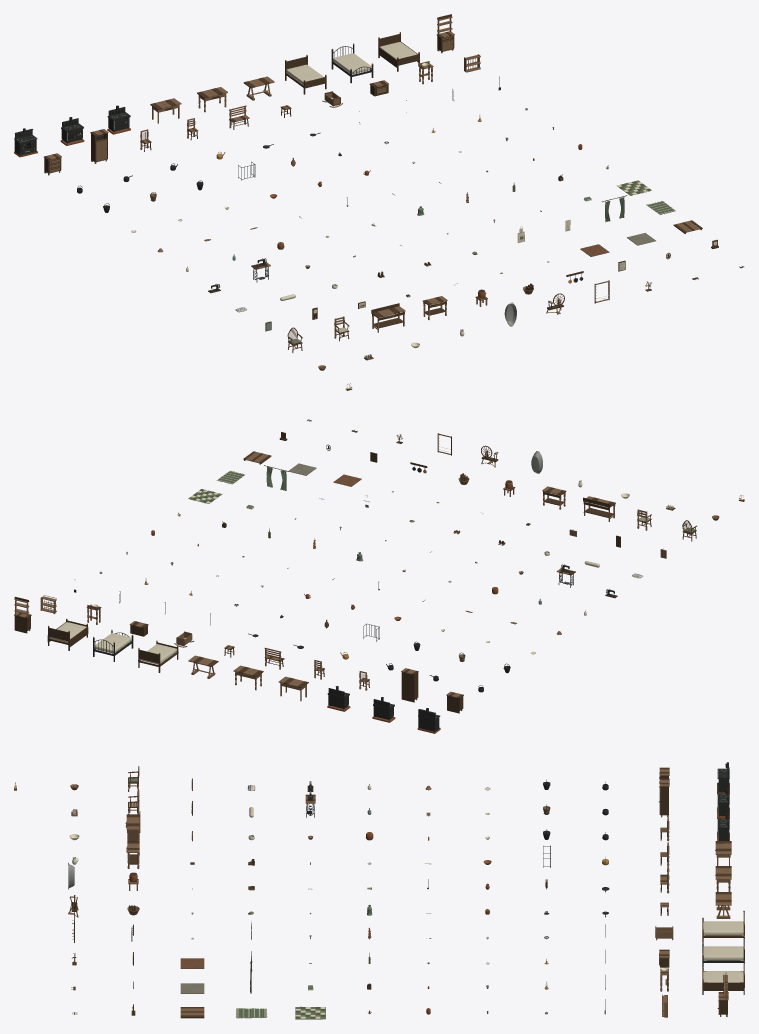
File: catalogue.glb
3 views of the same model, one above another, from view 1: azimuth 30°, elevation 25°; view 2: azimuth 150°, elevation 25°; view 3: azimuth 270°, elevation 25° (orthographic). The views are drawn at different scales.
Parts seen in each view (by area): view 1: box-bed, rope-bed, iron-bed, prep-table; view 2: box-bed, rope-bed, iron-bed, food-cupboard; view 3: box-bed, rope-bed, iron-bed.
Boxes of the visible parts, <box> form: box-bed: <box>378,32,419,71</box>; rope-bed: <box>285,55,326,94</box>; iron-bed: <box>331,43,373,83</box>; prep-table: <box>371,303,405,332</box>; box-bed: <box>47,618,88,650</box>; rope-bed: <box>138,640,178,672</box>; iron-bed: <box>93,629,133,661</box>; food-cupboard: <box>401,668,418,702</box>; box-bed: <box>702,960,744,994</box>; rope-bed: <box>702,910,744,942</box>; iron-bed: <box>702,935,744,967</box>.
Size of the model in its own units: 23.58 by 1.74 by 30.97.
